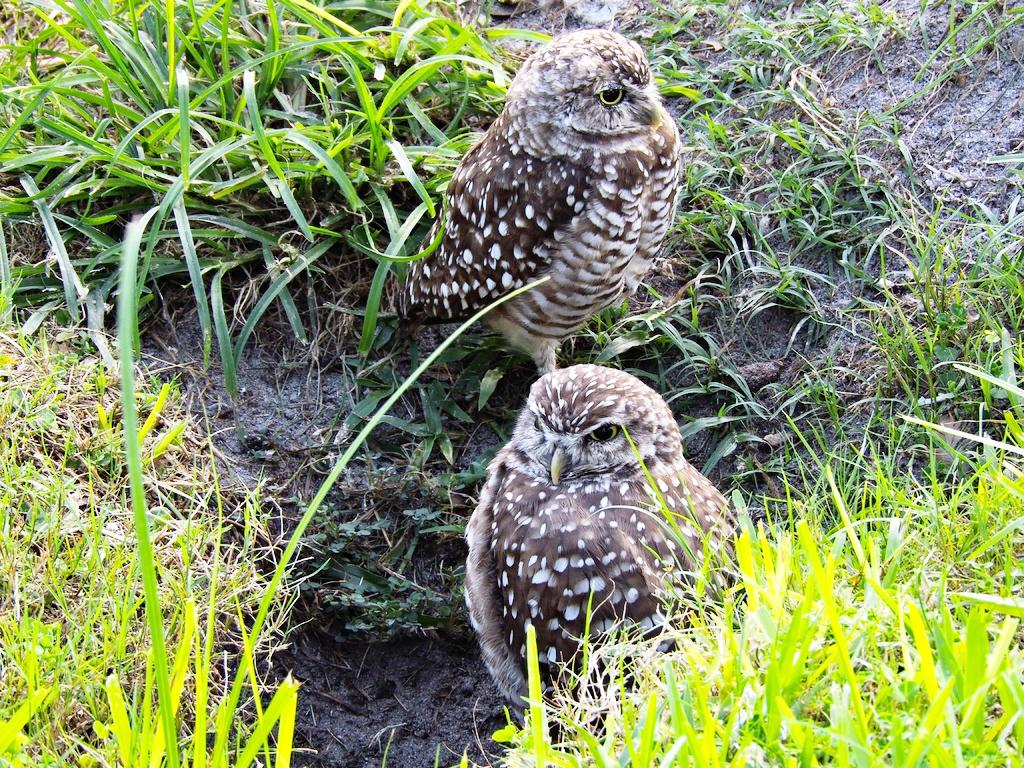Owl: (322, 34, 678, 382), (459, 372, 772, 720)
